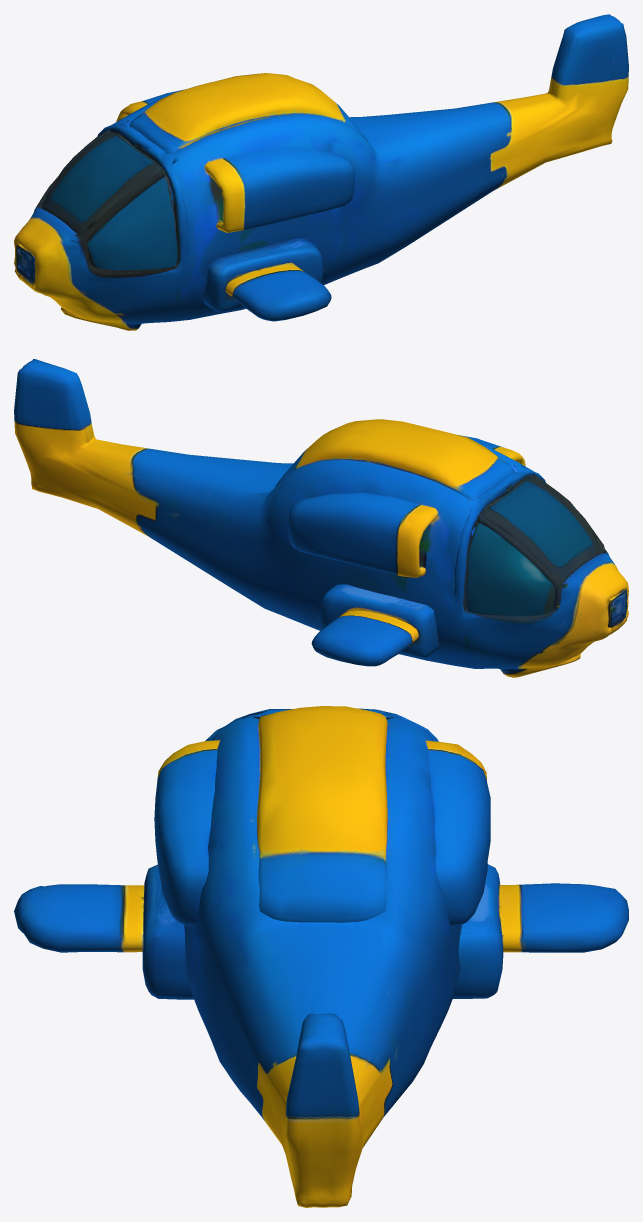
File: Meshy_AI_Azure_and_Gold_Starfi_0714083130_texture.glb
3 views of the same model, one above another, from view 1: azimuth 30°, elevation 25°; view 2: azimuth 150°, elevation 25°; view 3: azimuth 270°, elevation 25° (orthographic). The views are drawn at different scales.
Size of the model in its own units: 1 by 0.335 by 0.6074.
Materials: 1 (1 with a texture image).
